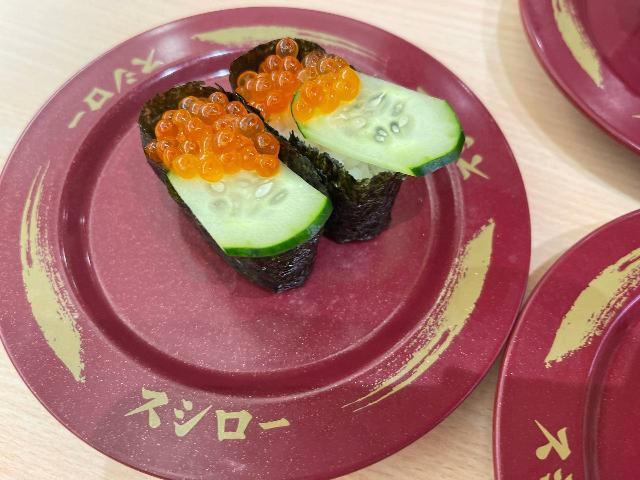janred: (18, 17, 493, 445), (498, 196, 640, 465), (527, 0, 640, 167)
